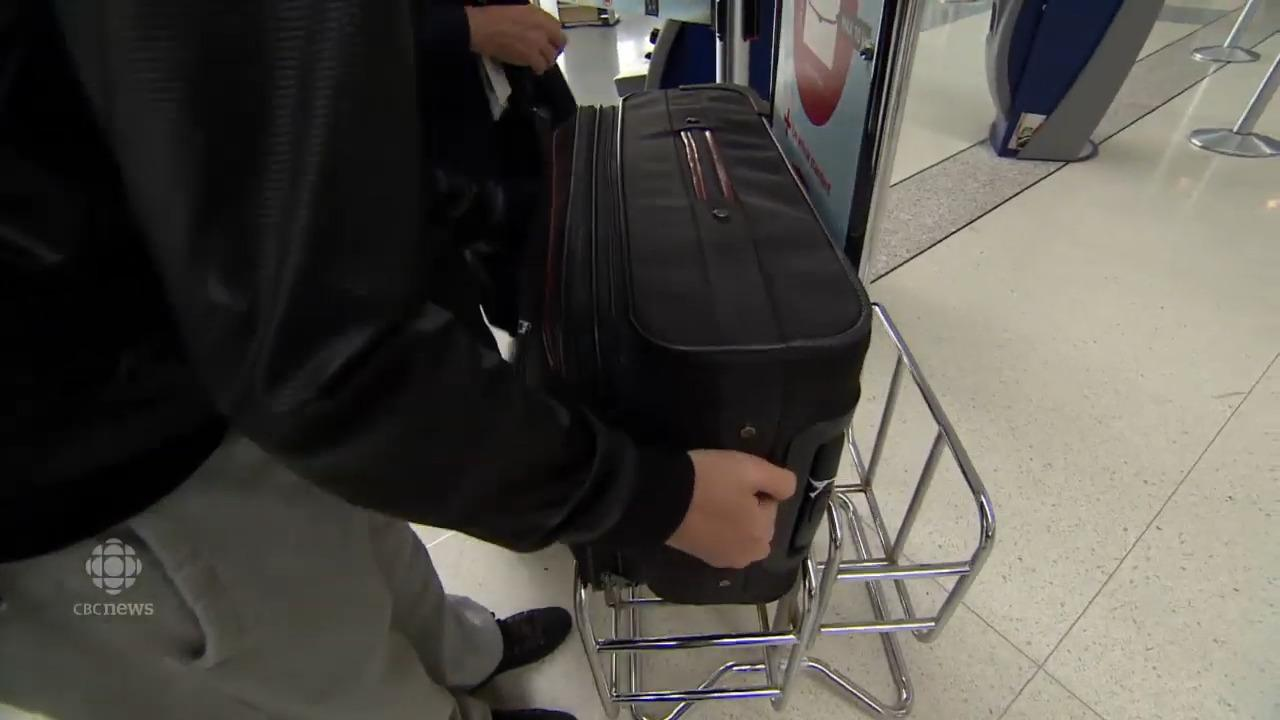luggage: (521, 85, 879, 608)
